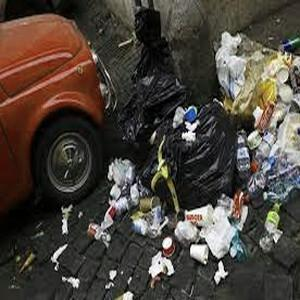Plastic: (257, 204, 280, 251), (233, 130, 250, 171)
